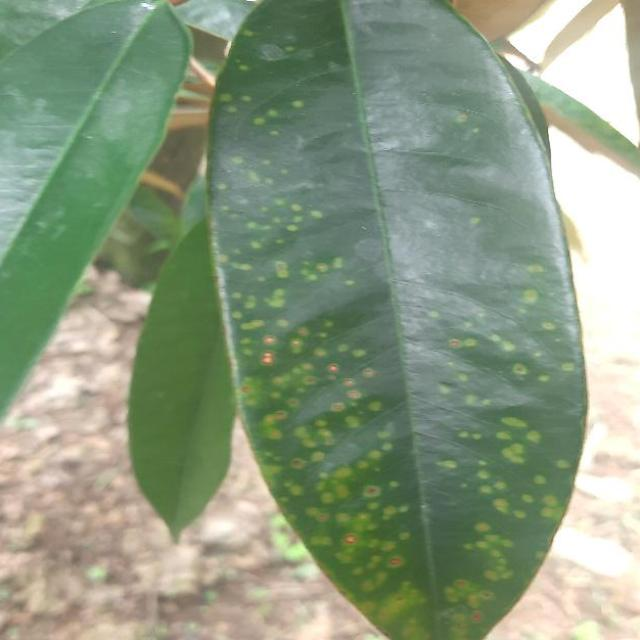Leaf Spot: (201, 0, 593, 640)
